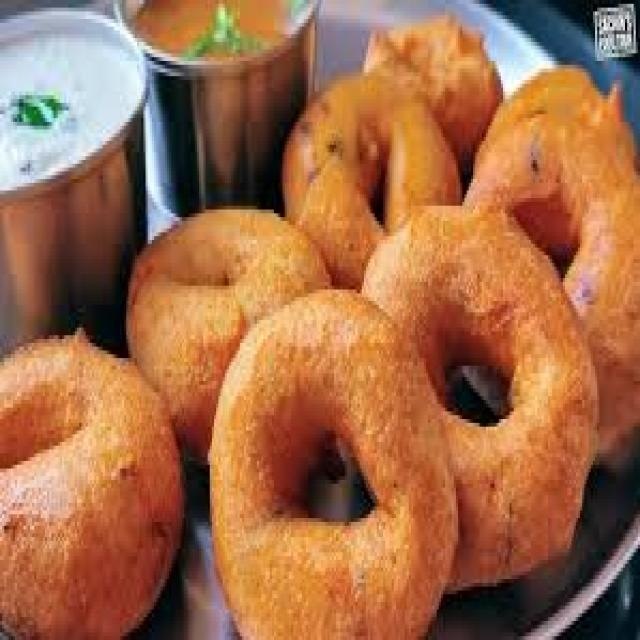MEDU VADA: (362, 137, 597, 587), (212, 290, 456, 636), (462, 69, 638, 450), (2, 331, 182, 636), (128, 210, 330, 453), (283, 65, 460, 286)
